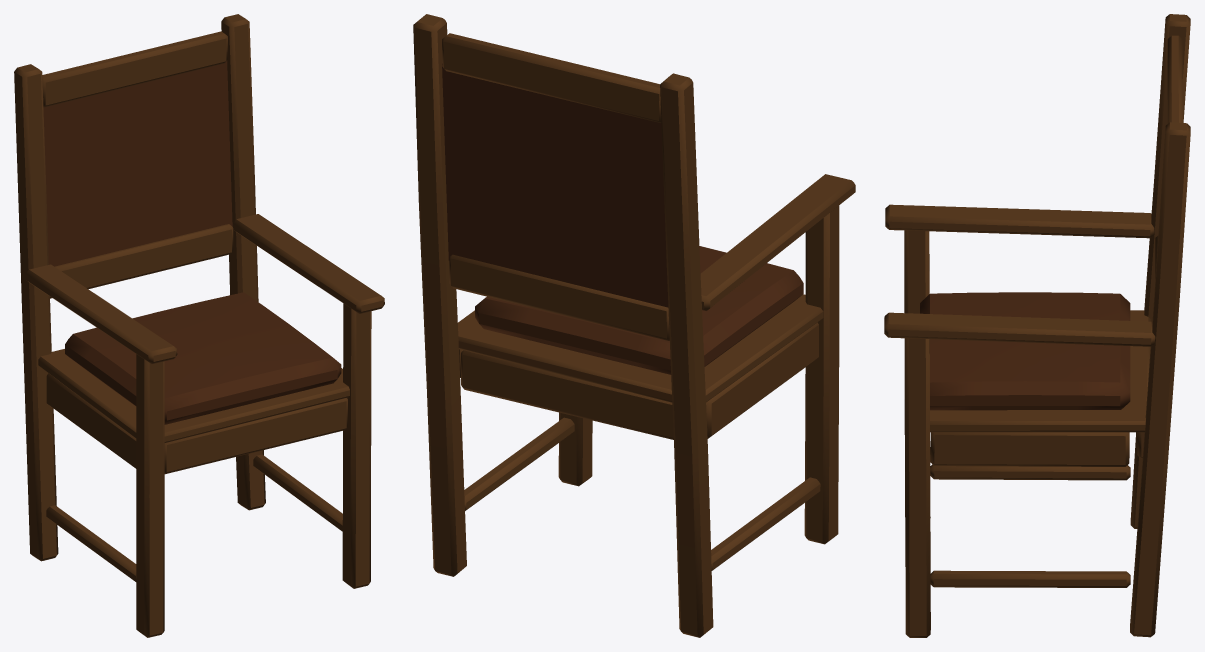
File: stuhl_armlehne.glb
3 renders of one model, left to right at view 1: azimuth 30°, elevation 25°; view 2: azimuth 150°, elevation 25°; view 3: azimuth 270°, elevation 25°, orthographic. The views are drawn at different scales.
Visible parts, largest first — view 1: stuhl_armlehne; view 2: stuhl_armlehne; view 3: stuhl_armlehne.
Part boxes in pixels (left/top/right/bottom): stuhl_armlehne: left=14, top=14, right=384, bottom=637; stuhl_armlehne: left=413, top=14, right=855, bottom=637; stuhl_armlehne: left=884, top=14, right=1190, bottom=637.
Bounding box in the file's own units: 0.581 × 1.12 × 0.6122.
